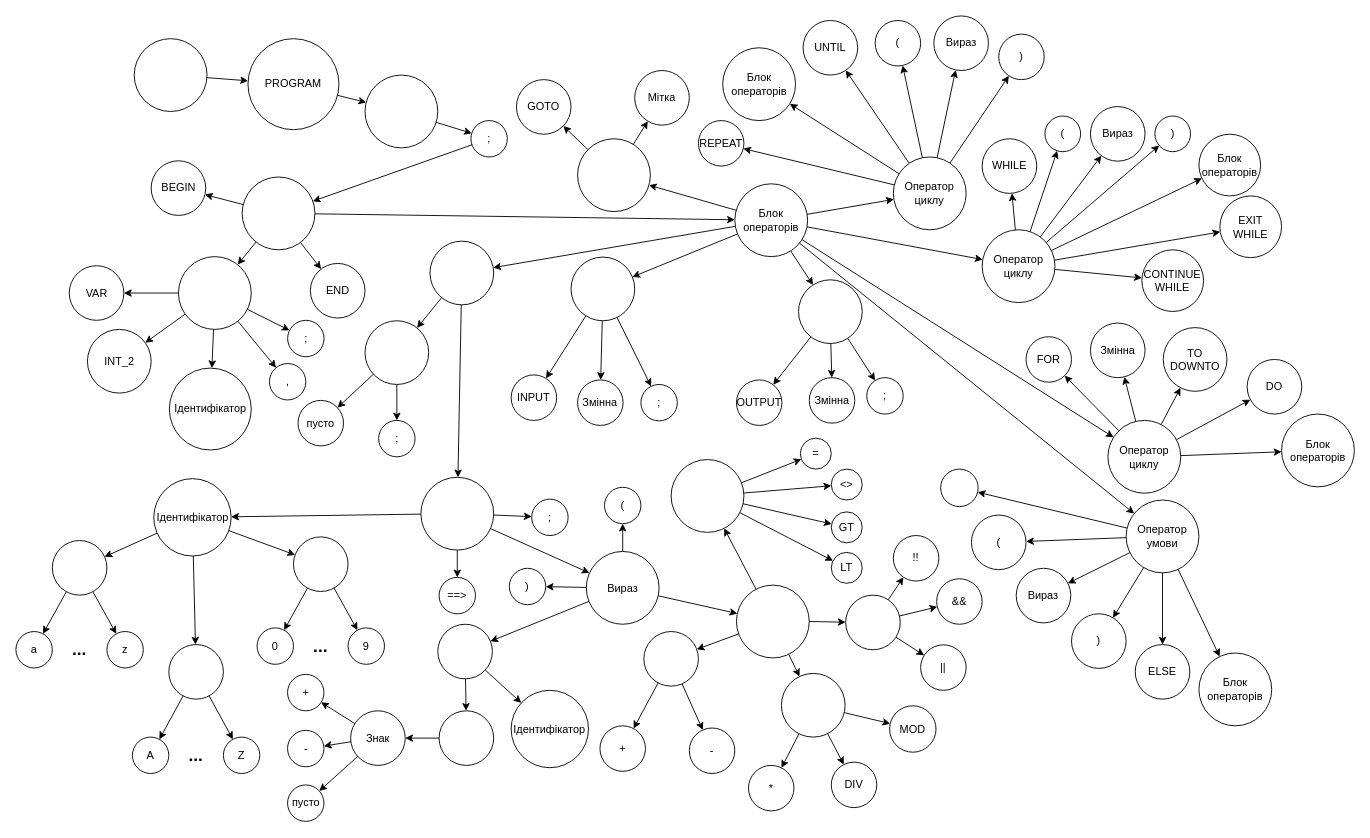
The diagram is 1370 pixels wide and 838 high, and some of its shapes have lost their labels. Here are the shapes that lost their labels. From the top down, the centre of each, then its label:
At (170,74): "Основна програма".
At (401,111): "Ім'я програми".
At (613,175): "Оператор переходу".
At (278,213): "Блок коду".
At (214,292): "Блок змінних".
At (461,272): "Простий оператор".
At (602,288): "Оператор вводу".
At (830,311): "Оператор виводу".
At (396,352): "Порожній оператор".
At (707,495): "Операції порівняння".
At (959,487): "IF".
At (457,513): "Присвоєння".
At (79,567): "Мала буква".
At (320,564): "Цифра".
At (772,621): "Операції".
At (872,622): "Логічна операція".
At (195,671): "Велика буква".
At (464,651): "Операнд".
At (670,658): "Адитивна операція".
At (813,704): "Мультиплі кативна операція".
At (466,737): "Константа".
